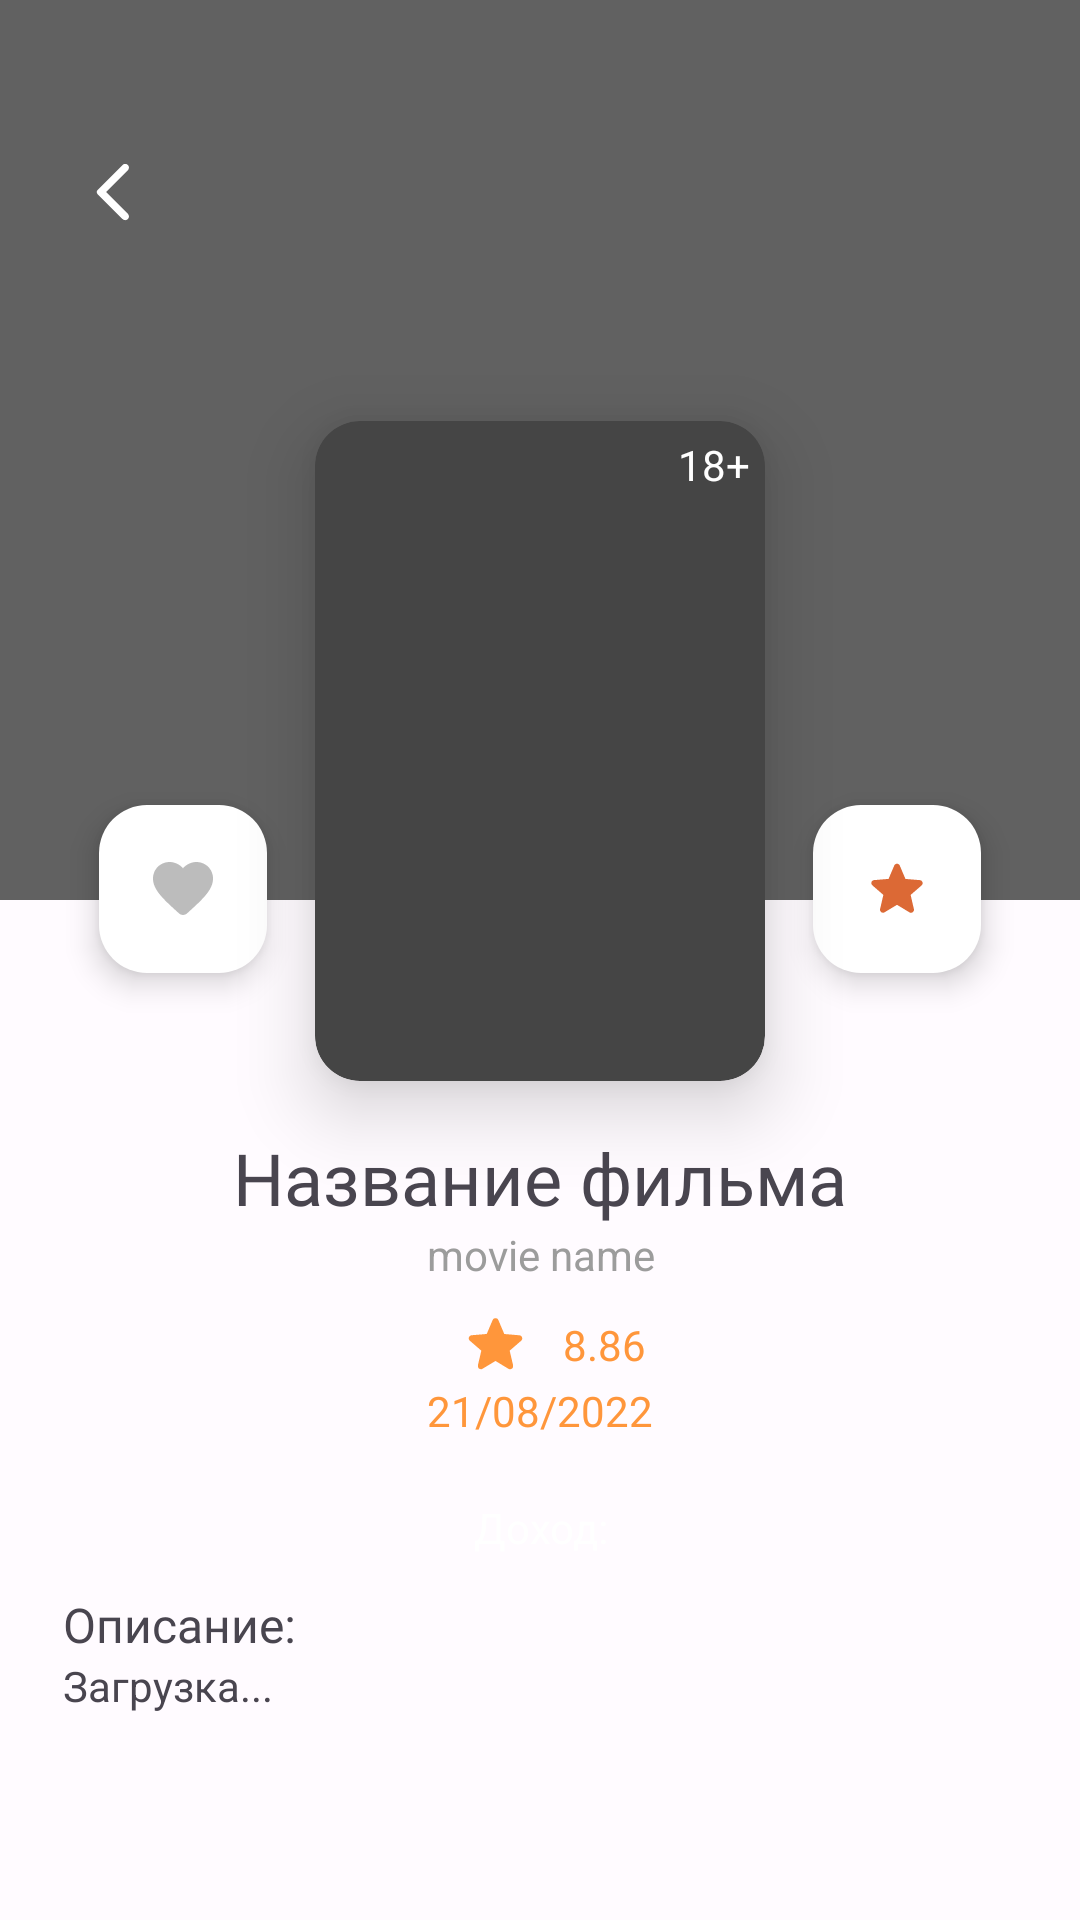

Screen size 1080 x 1920. Icon name, then its center in pixels as [x,y]:
back: [112,192]
favorite: [183,889]
rate: [897,889]
